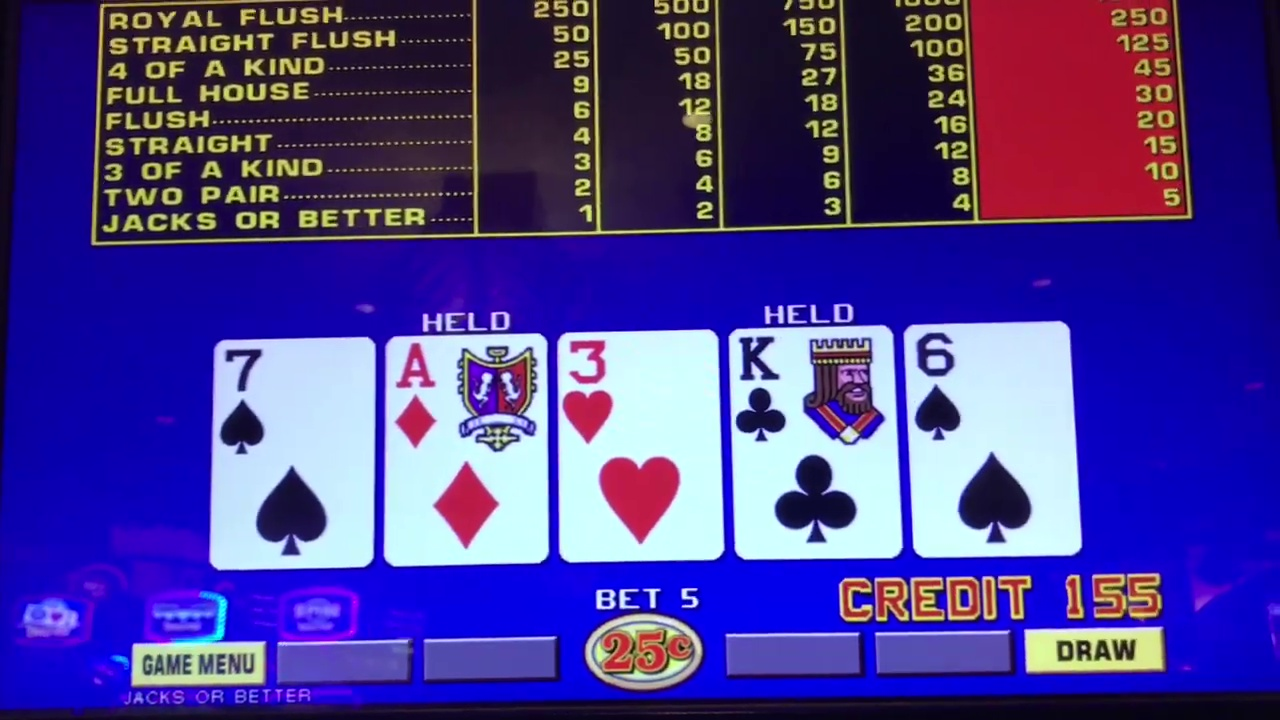CK: (741, 329, 883, 550)
DA: (389, 337, 537, 562)
H3: (564, 335, 712, 557)
S6: (916, 328, 1071, 554)
S7: (219, 342, 365, 565)
